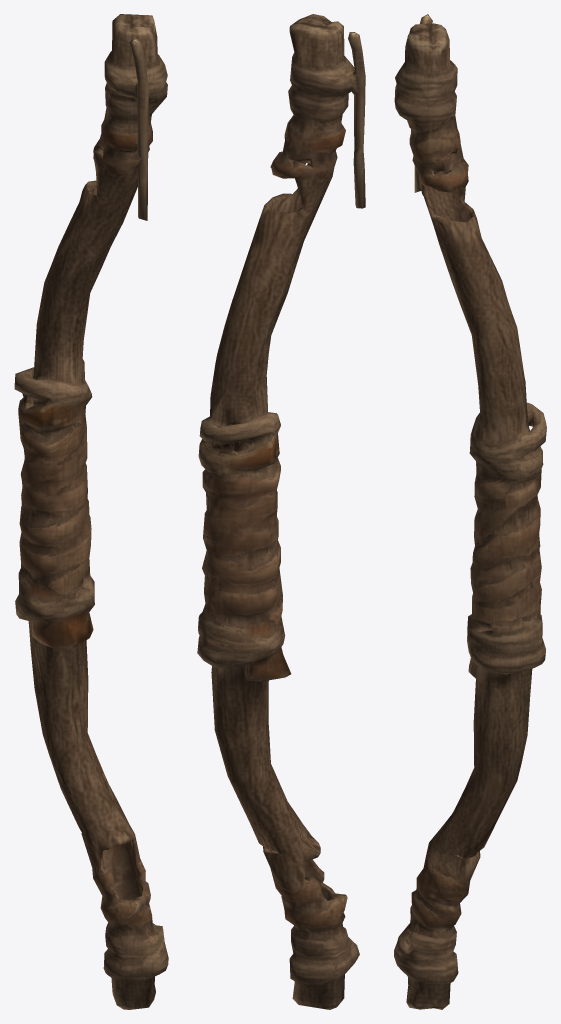
File: bow.fbx
3 renders of one model, left to right at view 1: azimuth 90°, elevation 25°; view 2: azimuth 150°, elevation 25°; view 3: azimuth 270°, elevation 25°, orthographic.
Visible parts, largest first — view 1: bow; view 2: bow; view 3: bow.
Part boxes in pixels (x1,y1,x2,y2): bow: (14,14,168,1009); bow: (197,14,365,1009); bow: (394,14,546,1009).
Bounding box in the file's own units: 0.1438 × 1.15 × 0.1628.
